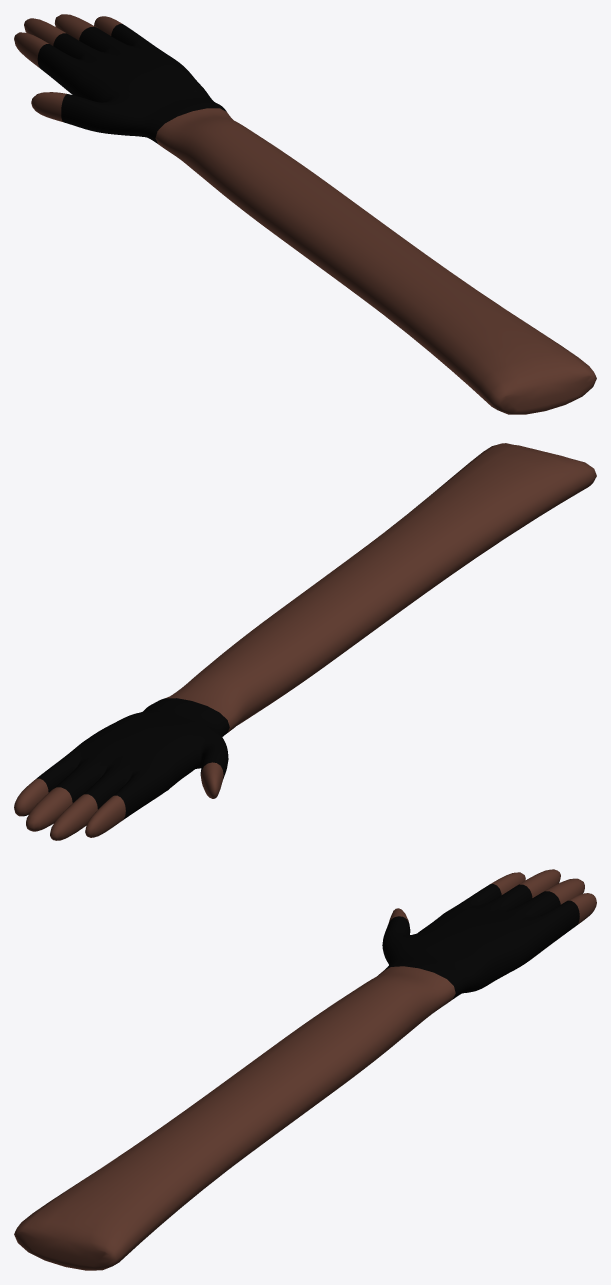
File: right_hand.glb
3 renders of one model, top to bottom at view 1: azimuth 30°, elevation 25°; view 2: azimuth 150°, elevation 25°; view 3: azimuth 330°, elevation 25°, orthographic.
Visible parts, largest first — view 1: Plane; view 2: Plane; view 3: Plane.
Boxes of the visible parts, x1,y1,x2,y2 form: Plane: [14, 14, 596, 414]; Plane: [14, 443, 596, 840]; Plane: [14, 869, 596, 1270].
Bounding box in the file's own units: 6.59 × 2.14 × 40.22.
